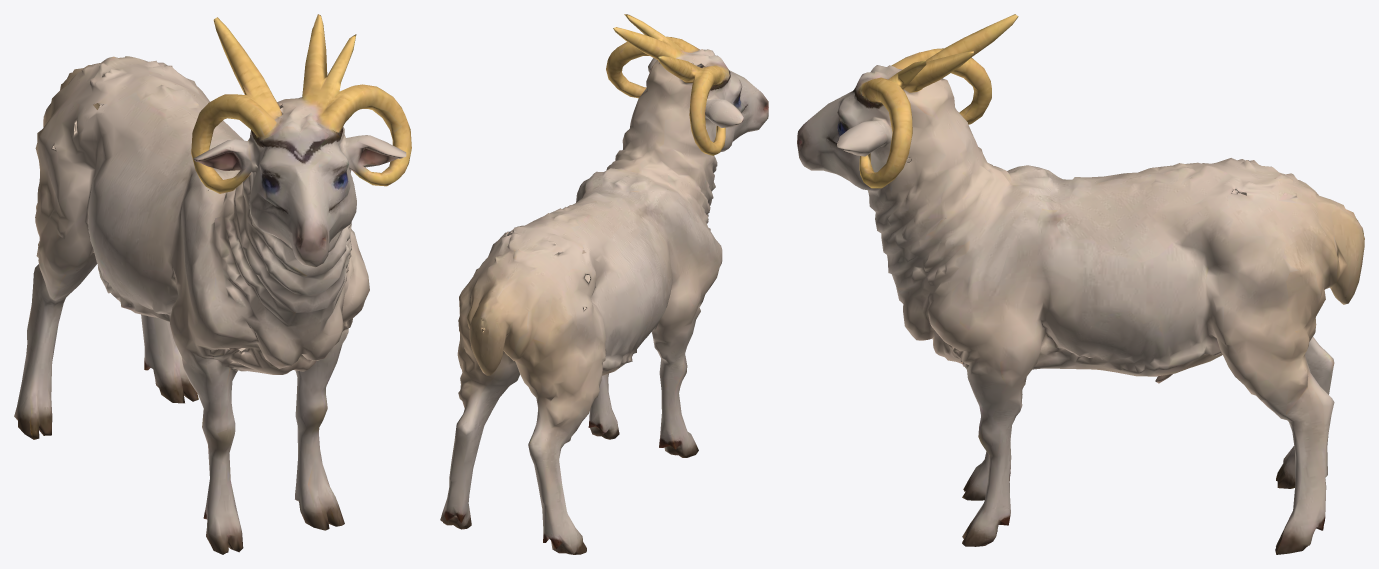
File: lamb.glb
The picture shows the model from 3 angles, left to right: view 1: azimuth 30°, elevation 25°; view 2: azimuth 150°, elevation 25°; view 3: azimuth 270°, elevation 25°; orthographic projection. The views are drawn at different scales.
Visible parts, largest first — view 1: geometry_0; view 2: geometry_0; view 3: geometry_0.
Boxes of the visible parts, bbox=[...] form: geometry_0: bbox=[14, 14, 411, 554]; geometry_0: bbox=[440, 14, 768, 554]; geometry_0: bbox=[797, 14, 1364, 554].
Size of the model in its own units: 0.3692 by 0.9418 by 0.9964.
Materials: 1 (1 with a texture image).
